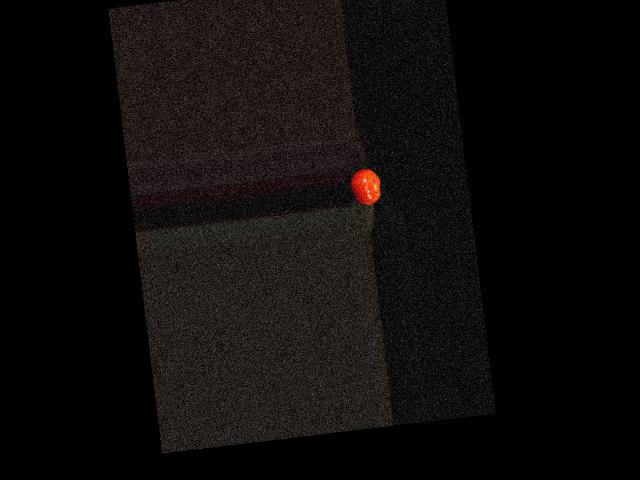tomato: (348, 166, 382, 206)
